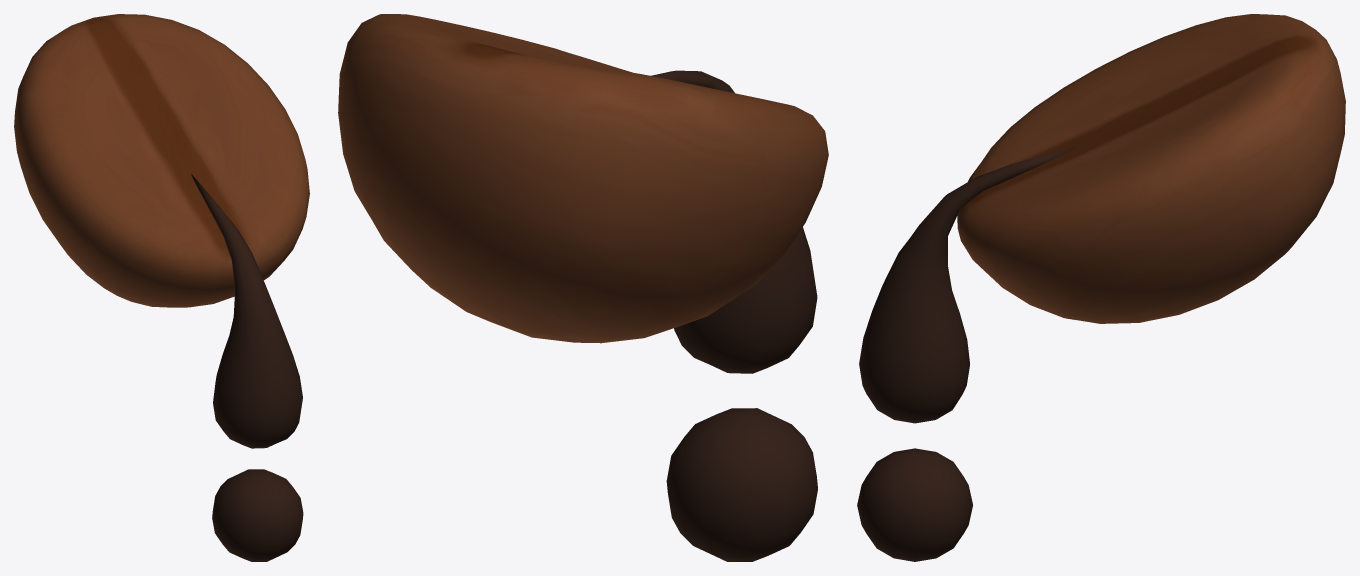
Rendered from coffee-bean.glb.
3 views of the same model, side by side, from view 1: azimuth 30°, elevation 25°; view 2: azimuth 150°, elevation 25°; view 3: azimuth 270°, elevation 25° (orthographic). The views are drawn at different scales.
Visible parts, largest first — view 1: Coffebean, Drop; view 2: Coffebean, Drop; view 3: Coffebean, Drop.
Boxes of the visible parts, box(x1,y1,x2,y2) form: Coffebean: box(14, 14, 309, 307); Drop: box(191, 174, 303, 561); Coffebean: box(338, 14, 828, 343); Drop: box(651, 70, 817, 561); Coffebean: box(957, 14, 1345, 323); Drop: box(857, 147, 1076, 561).
Size of the model in its own units: 1.74 by 2.86 by 2.47.
2 materials, 2 textured.
